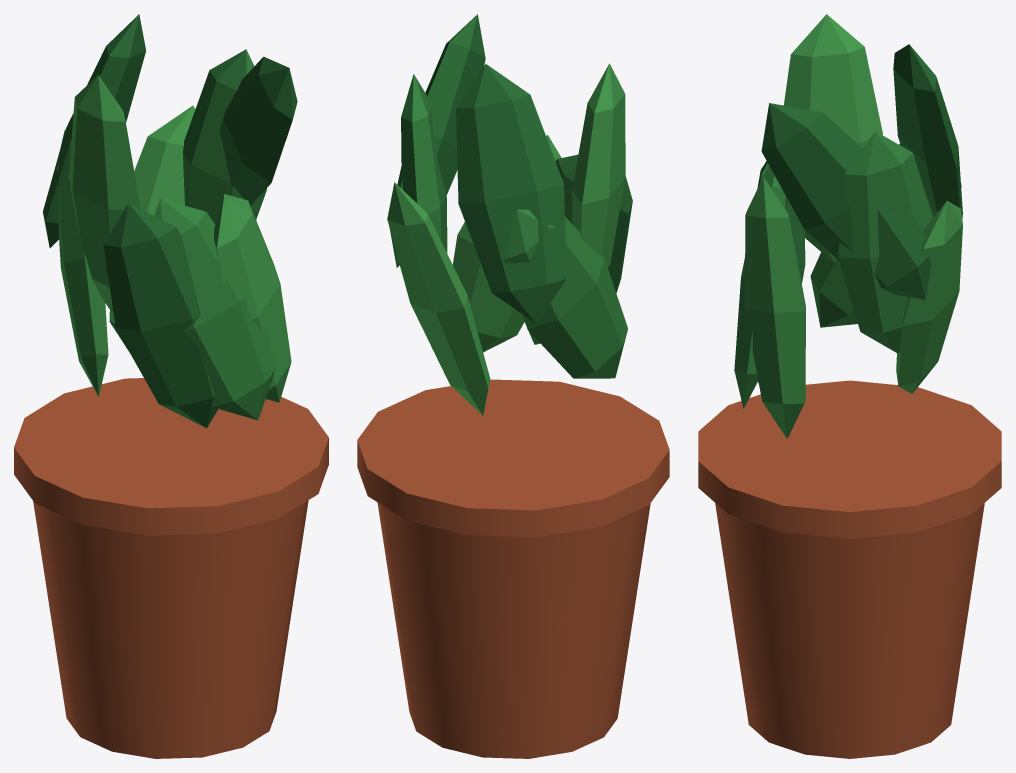
File: potted_plant.glb
3 views of the same model, side by side, from view 1: azimuth 30°, elevation 25°; view 2: azimuth 150°, elevation 25°; view 3: azimuth 270°, elevation 25° (orthographic).
Visible parts, largest first — view 1: main; view 2: main; view 3: main.
Boxes of the visible parts, x1=… form: main: x1=14, y1=14, x2=328, y2=758; main: x1=357, y1=14, x2=669, y2=758; main: x1=698, y1=14, x2=1001, y2=758.
Size of the model in its own units: 0.42 by 0.997 by 0.4095.
